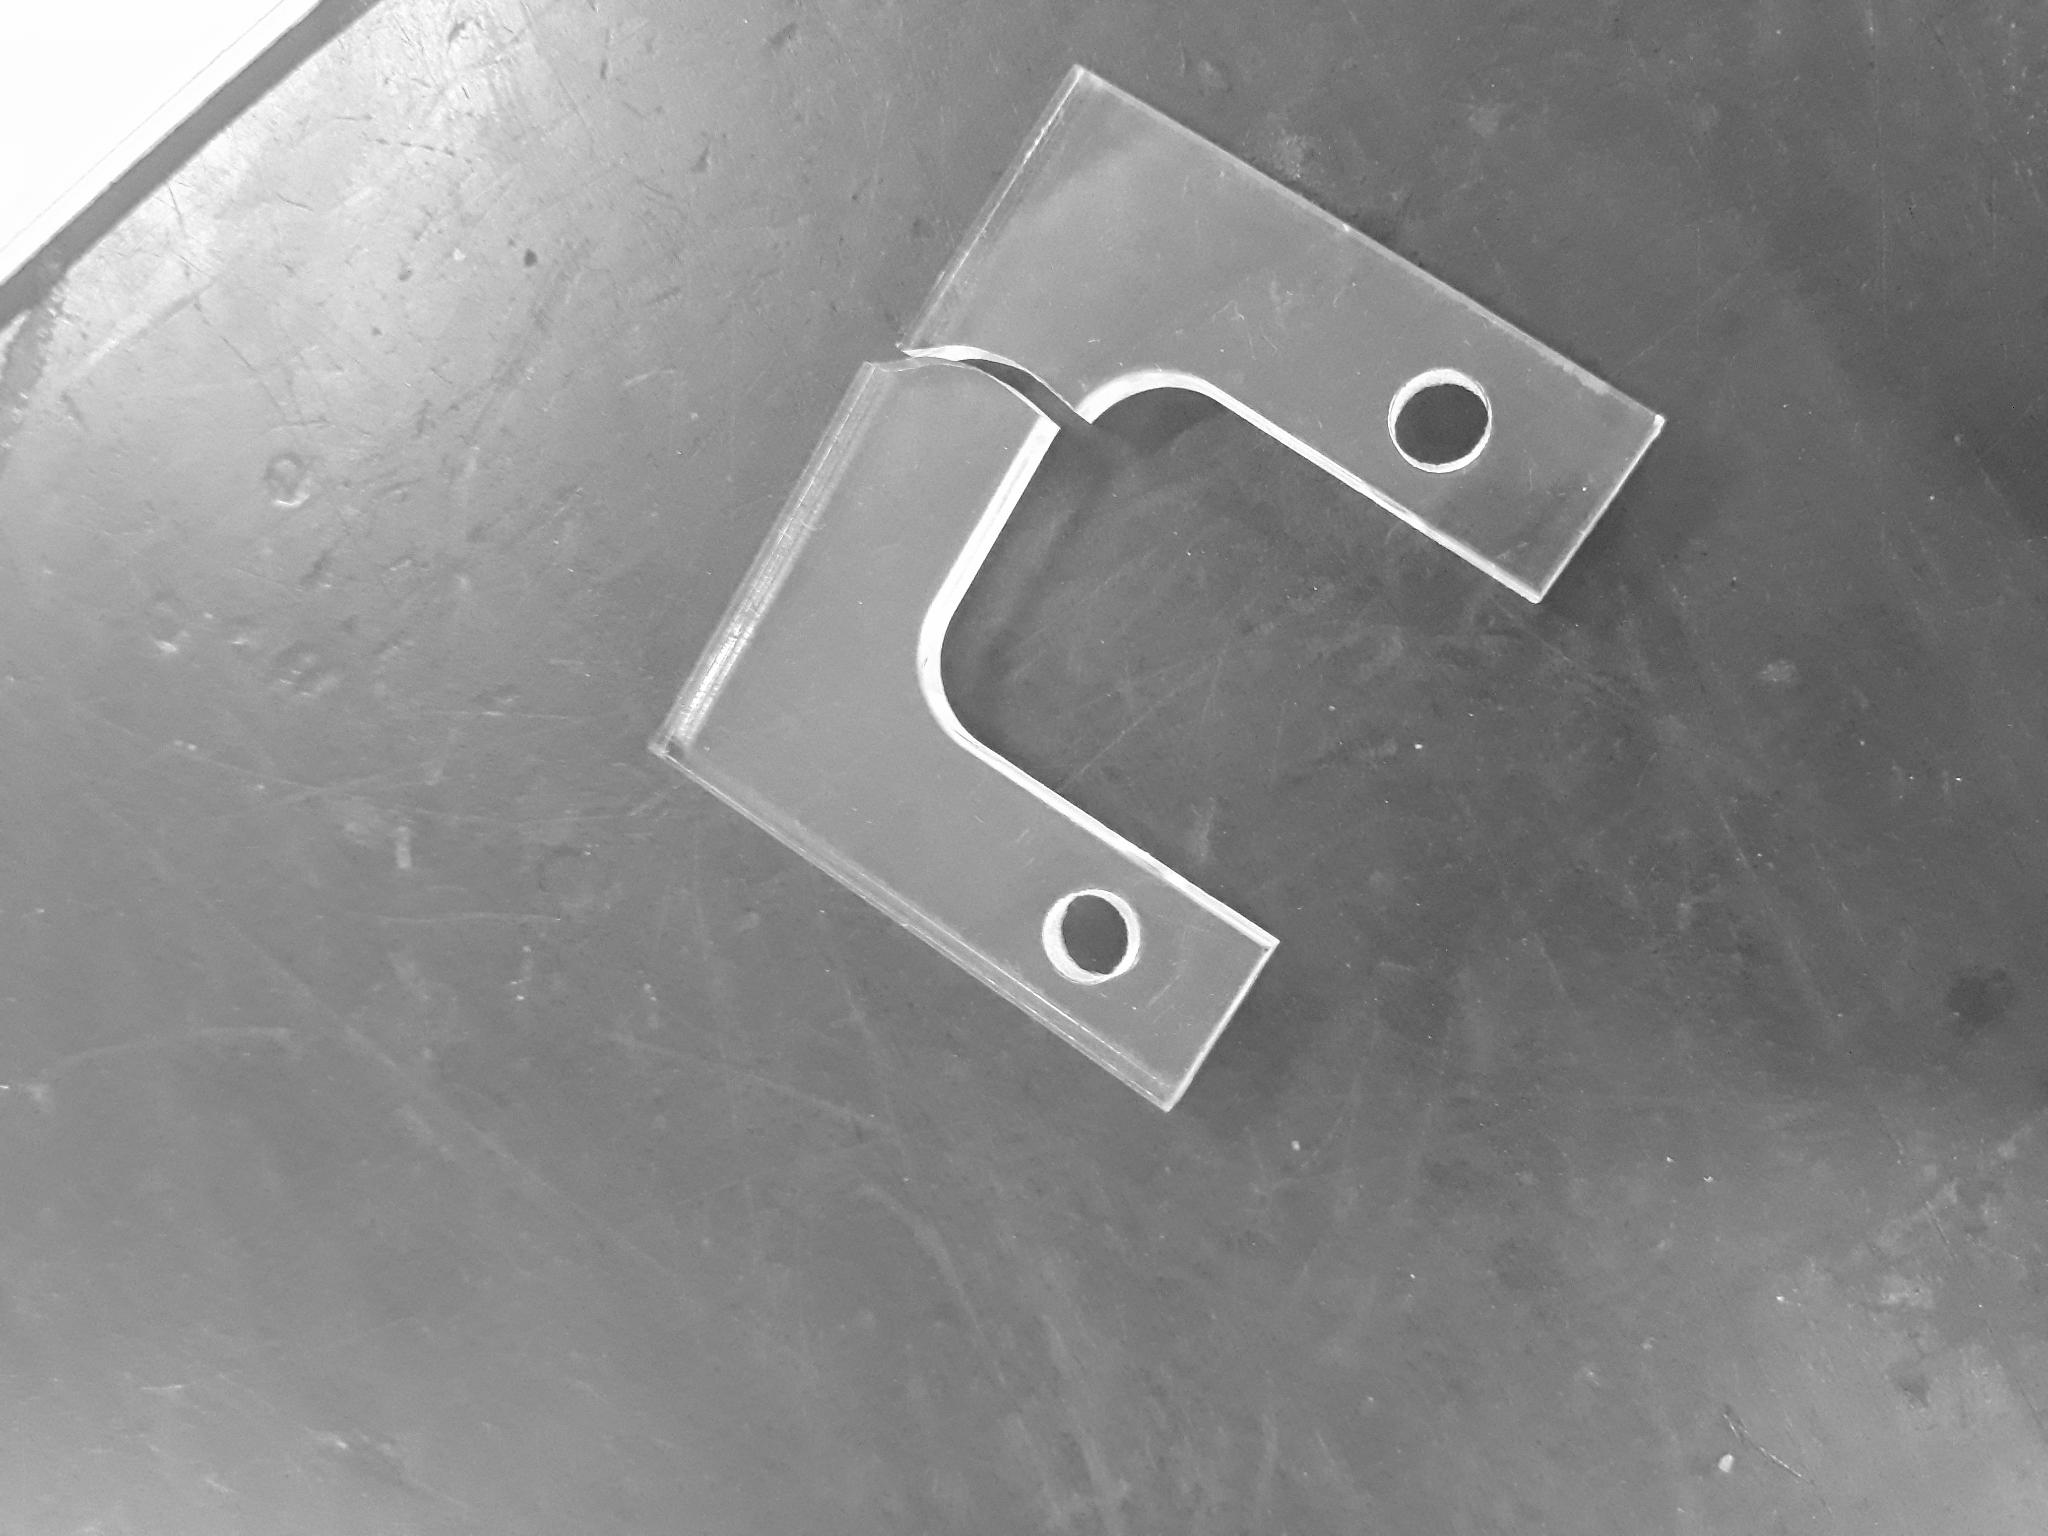Shape_45: (429, 673, 1484, 1536), (697, 928, 1166, 1317)
